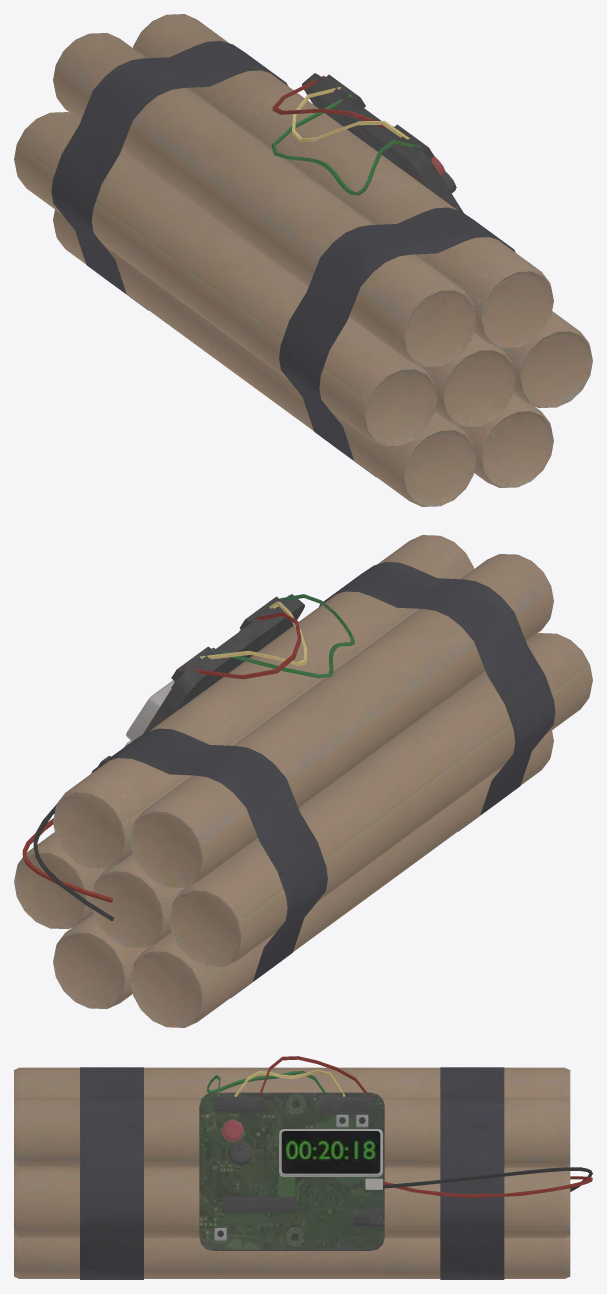
The model's file is bomb-game.glb.
The picture shows the model from 3 angles, top to bottom: view 1: azimuth 30°, elevation 25°; view 2: azimuth 150°, elevation 25°; view 3: azimuth 270°, elevation 25°; orthographic projection. The views are drawn at different scales.
Visible parts, largest first — view 1: Object_2; view 2: Object_2; view 3: Object_2.
Boxes of the visible parts, x1,y1,x2,y2 form: Object_2: (14, 14, 592, 506); Object_2: (14, 535, 592, 1027); Object_2: (14, 1056, 592, 1279).
Bounding box in the file's own units: 2.85 × 2.64 × 6.64.
1 material, 1 textured.
